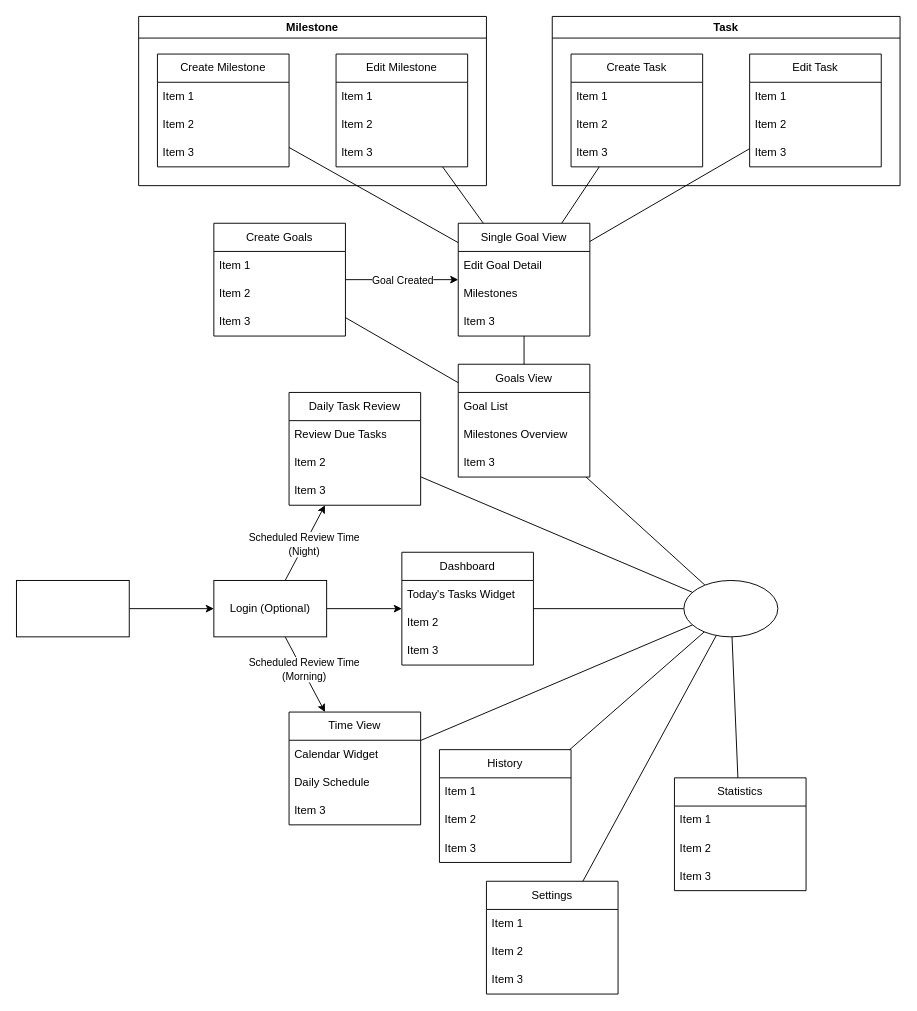
The diagram is 917 pixels wide and 1011 high, and some of its shapes have lost their labels. Here are the shapes that lost their labels. From the top down, the centre of each, then its label:
point 72,608: Welcome
point 730,608: Menu Panel
